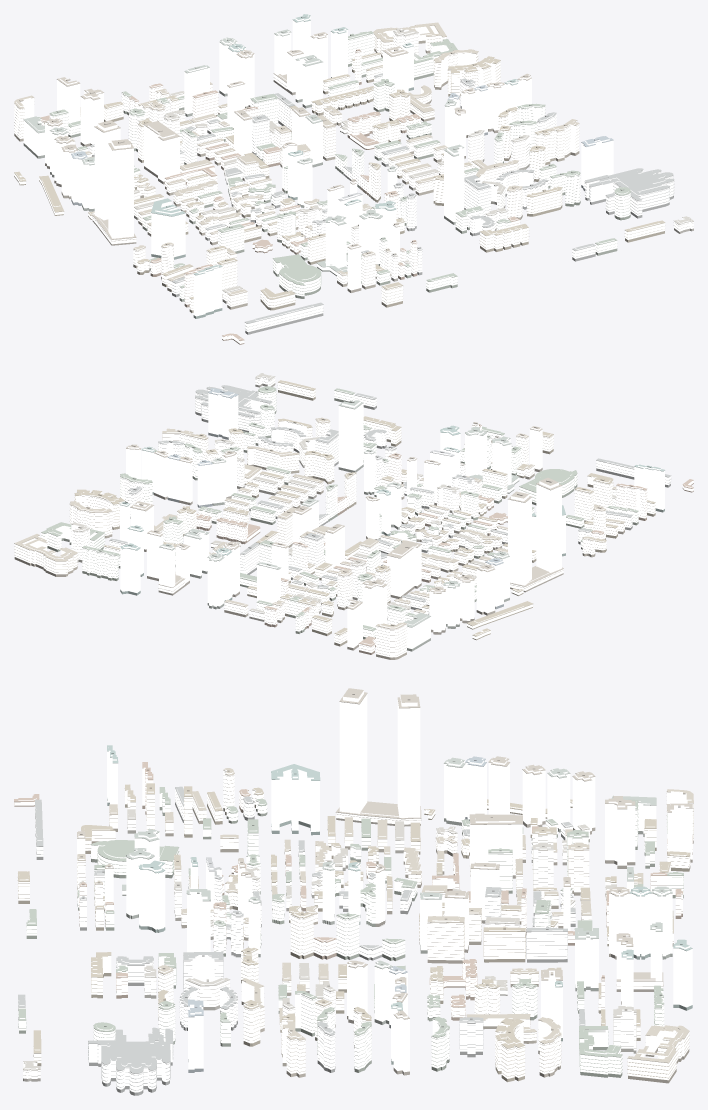
File: buildings--10_-3-fine.glb
The picture shows the model from 3 angles, top to bottom: view 1: azimuth 30°, elevation 25°; view 2: azimuth 150°, elevation 25°; view 3: azimuth 270°, elevation 25°; orthographic projection. The views are drawn at different scales.
Parts seen in each view (by area): view 1: block_-10_-3_residential, block_-10_-3_office, block_-10_-3_roof, block_-10_-3_concrete, block_-10_-3_darkglass, block_-10_-3_steel; view 2: block_-10_-3_residential, block_-10_-3_office, block_-10_-3_roof, block_-10_-3_concrete, block_-10_-3_darkglass, block_-10_-3_steel; view 3: block_-10_-3_residential, block_-10_-3_office, block_-10_-3_roof, block_-10_-3_darkglass, block_-10_-3_concrete, block_-10_-3_steel.
Part boxes in pixels (x1,y1,x2,y2): block_-10_-3_residential: [14, 25, 693, 343]; block_-10_-3_office: [23, 15, 613, 316]; block_-10_-3_roof: [14, 14, 693, 340]; block_-10_-3_concrete: [14, 25, 693, 340]; block_-10_-3_darkglass: [14, 40, 693, 344]; block_-10_-3_steel: [24, 17, 613, 275]; block_-10_-3_residential: [14, 376, 693, 657]; block_-10_-3_office: [120, 389, 664, 648]; block_-10_-3_roof: [14, 373, 693, 657]; block_-10_-3_concrete: [14, 377, 693, 655]; block_-10_-3_darkglass: [14, 383, 693, 659]; block_-10_-3_steel: [120, 390, 664, 627]; block_-10_-3_residential: [14, 767, 693, 1092]; block_-10_-3_office: [77, 690, 692, 1072]; block_-10_-3_roof: [14, 688, 693, 1092]; block_-10_-3_darkglass: [14, 799, 693, 1095]; block_-10_-3_concrete: [14, 768, 693, 1090]; block_-10_-3_steel: [77, 693, 692, 1019].
Bounding box in the file's own units: 677 × 130 × 655.
